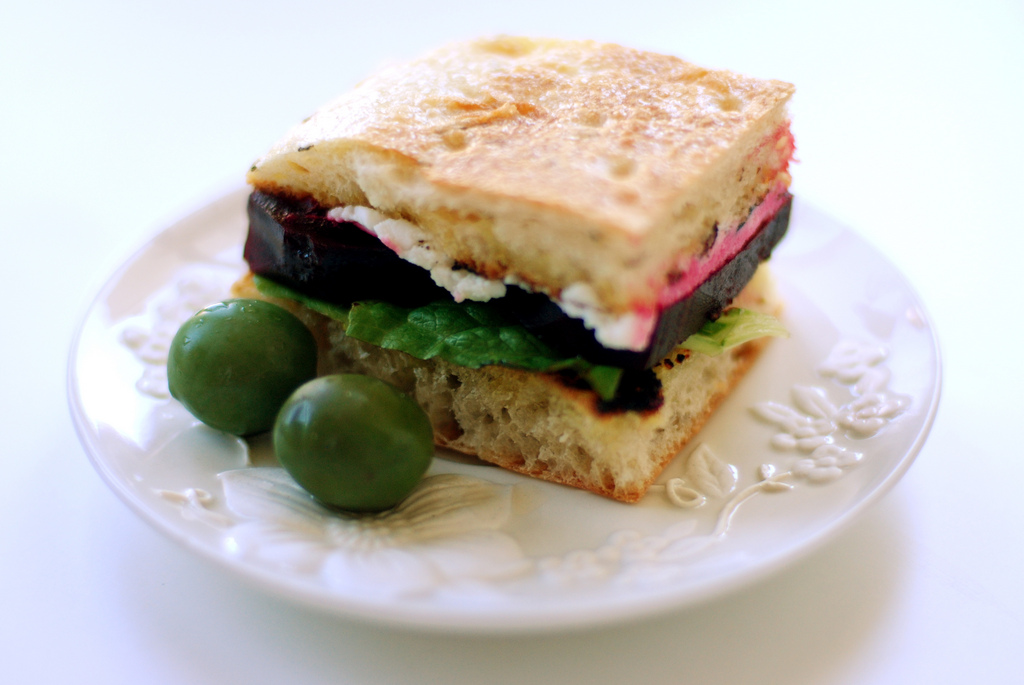slice of bread: (275, 29, 809, 311)
